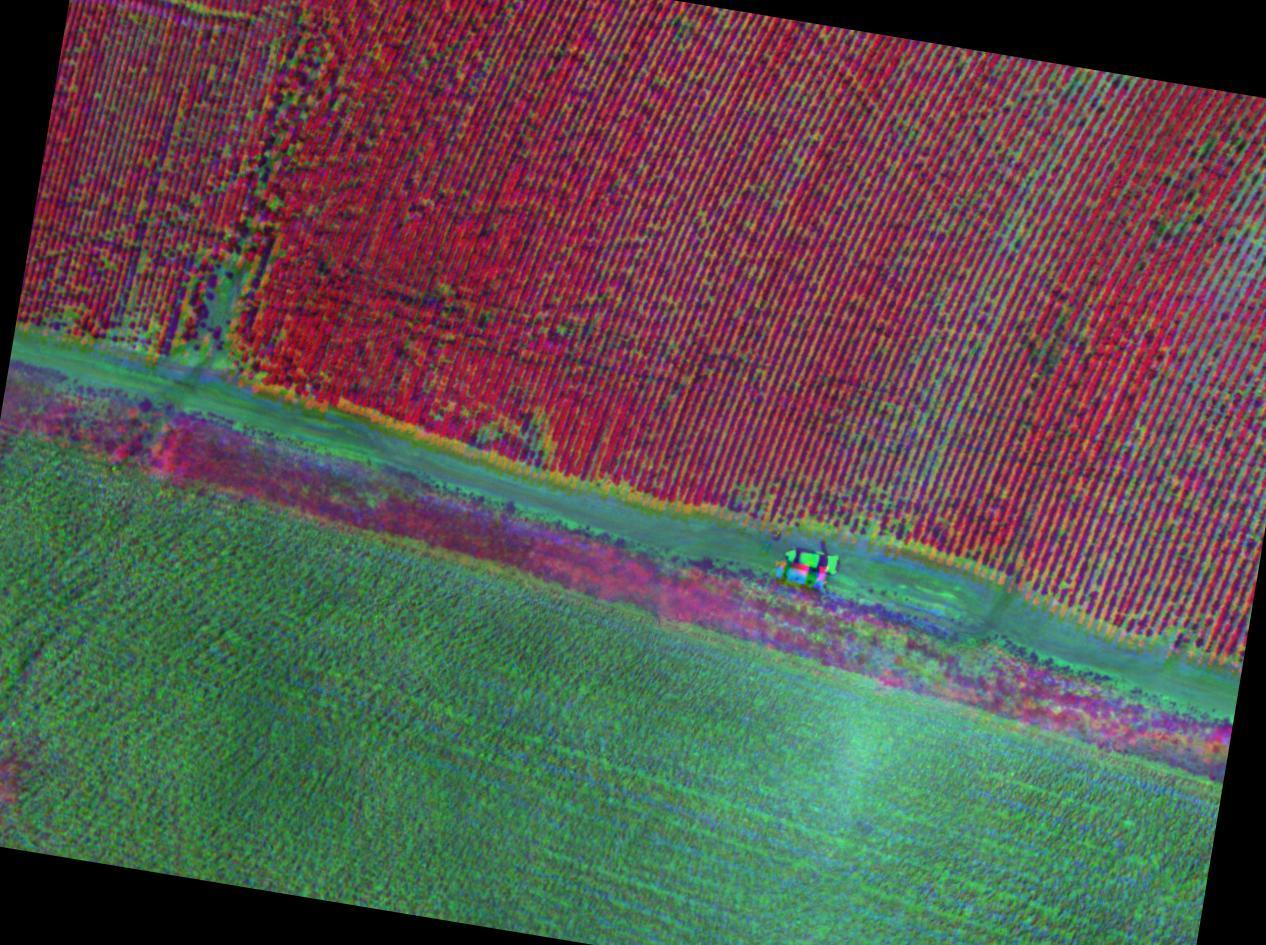dc: (779, 480, 906, 546), (915, 373, 974, 451), (185, 252, 243, 315), (179, 328, 226, 375), (99, 312, 149, 355)
